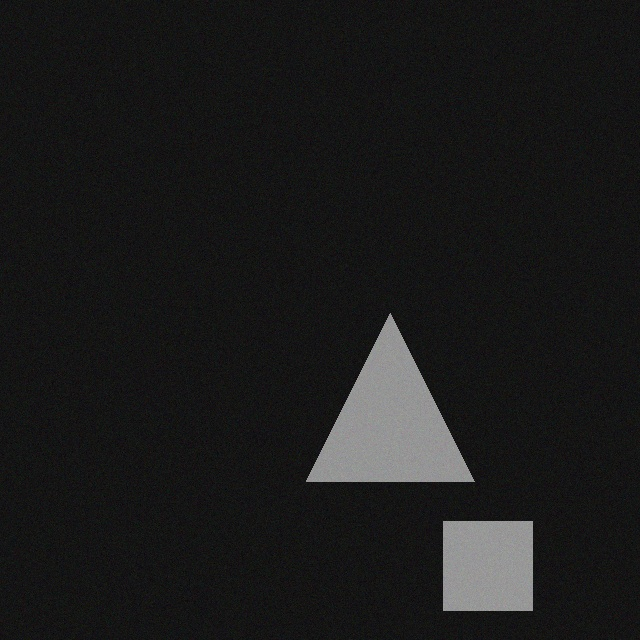square: (434, 511, 523, 600)
triangle: (297, 303, 465, 471)
